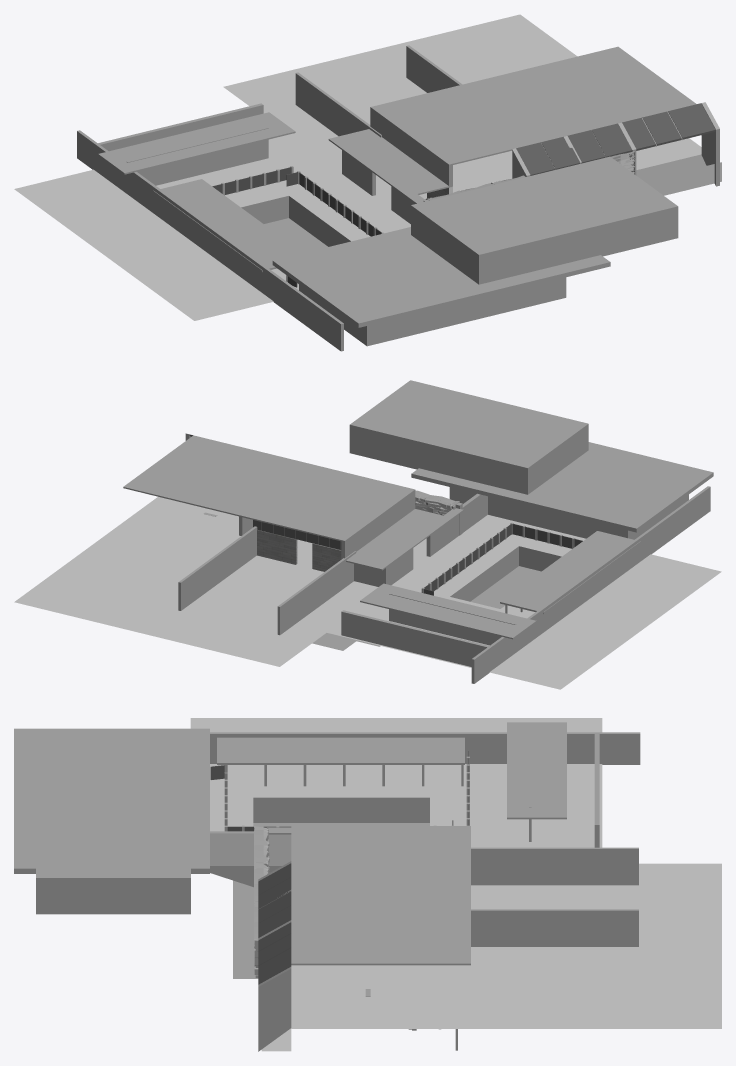
File: Villa_Map.fbx
3 renders of one model, top to bottom at view 1: azimuth 30°, elevation 25°; view 2: azimuth 150°, elevation 25°; view 3: azimuth 270°, elevation 25°, orthographic. The views are drawn at different scales.
Parts seen in each view (by area): view 1: polySurface2, Third_Area, pCube10, pPlane1, pCube140, pCube44, pCube46, pCube56, pCube39, pCube8, pCube54, pCube27 (+10 smaller); view 2: pPlane1, polySurface2, pCube10, Third_Area, pCube140, pCube44, pCube39, pCube56, pCube46, pCube8, pCube28, pCube27 (+8 smaller); view 3: pPlane1, polySurface2, pCube10, Third_Area, pCube140, pCube39, pCube27, pCube28, pCube44, pCube56, pCube24, pCube127 (+3 smaller).
Boxes of the visible parts, bbox=[...] form: polySurface2: bbox=[14, 134, 410, 320]; Third_Area: bbox=[411, 156, 678, 284]; pCube10: bbox=[370, 46, 696, 186]; pPlane1: bbox=[223, 14, 721, 209]; pCube140: bbox=[272, 227, 610, 327]; pCube44: bbox=[77, 103, 343, 351]; pCube46: bbox=[299, 277, 566, 346]; pCube56: bbox=[98, 112, 295, 174]; pCube39: bbox=[153, 179, 302, 271]; pCube8: bbox=[328, 129, 452, 203]; pCube54: bbox=[127, 127, 268, 185]; pCube27: bbox=[295, 72, 381, 137]; pPlane1: bbox=[14, 496, 429, 666]; polySurface2: bbox=[327, 515, 721, 689]; pCube10: bbox=[123, 435, 415, 559]; Third_Area: bbox=[349, 380, 588, 494]; pCube140: bbox=[411, 442, 713, 532]; pCube44: bbox=[341, 486, 710, 683]; pCube39: bbox=[500, 531, 640, 613]; pCube56: bbox=[360, 583, 536, 639]; pCube46: bbox=[449, 487, 688, 539]; pCube8: bbox=[346, 508, 463, 570]; pCube28: bbox=[178, 526, 257, 610]; pCube27: bbox=[277, 551, 356, 635]; pPlane1: bbox=[261, 863, 721, 1051]; polySurface2: bbox=[190, 718, 602, 847]; pCube10: bbox=[291, 826, 470, 965]; Third_Area: bbox=[36, 767, 190, 914]; pCube140: bbox=[14, 728, 209, 873]; pCube39: bbox=[217, 737, 464, 764]; pCube27: bbox=[471, 847, 638, 885]; pCube28: bbox=[471, 909, 638, 946]; pCube44: bbox=[210, 732, 640, 847]; pCube56: bbox=[507, 722, 566, 819]; pCube24: bbox=[210, 831, 291, 887]; pCube127: bbox=[258, 967, 291, 1051].
Size of the model in its own units: 6864 by 1288 by 6604.
